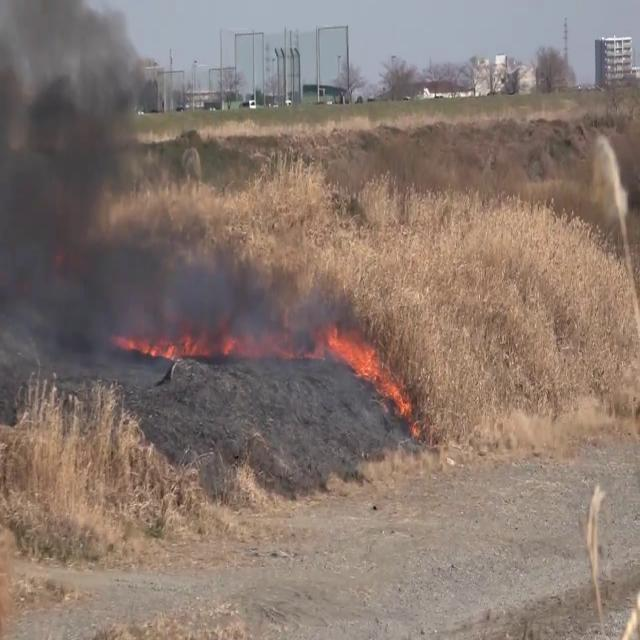Fire: (318, 318, 414, 416), (112, 317, 248, 367)
Smoke: (0, 0, 248, 398)
